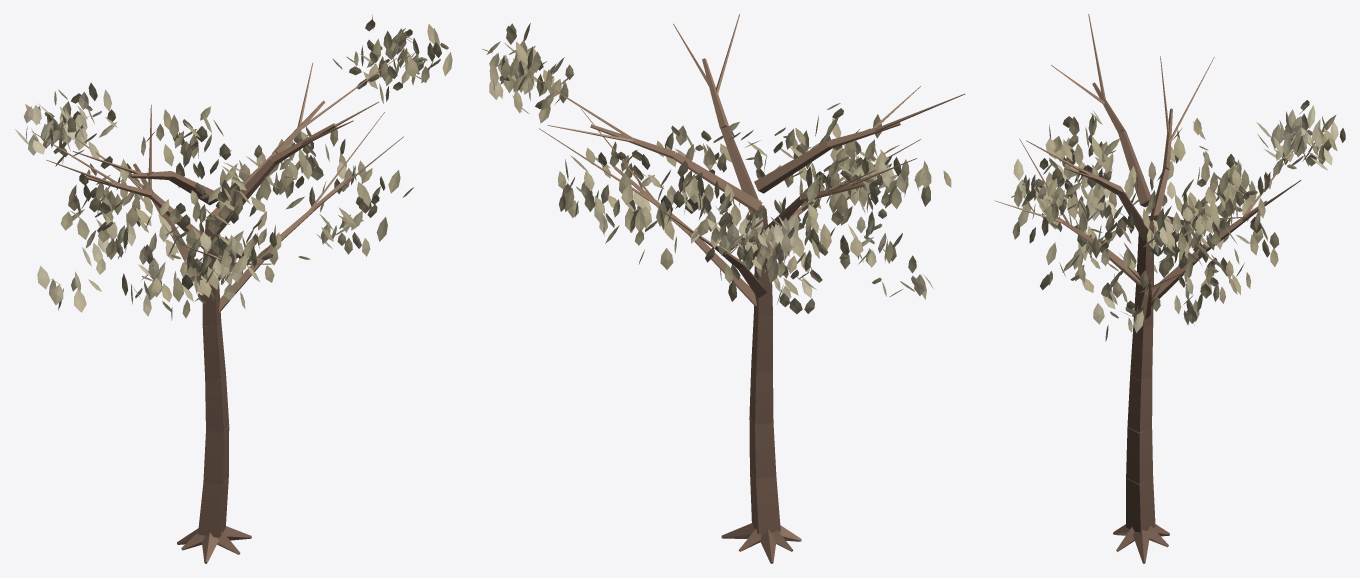
Rendered from tree_3d_03_golden_beige.glb.
3 views of the same model, side by side, from view 1: azimuth 30°, elevation 25°; view 2: azimuth 150°, elevation 25°; view 3: azimuth 270°, elevation 25° (orthographic). The views are drawn at different scales.
Visible parts, largest first — view 1: tree_3d_03_golden_beige_foliage, tree_3d_03_golden_beige_wood; view 2: tree_3d_03_golden_beige_foliage, tree_3d_03_golden_beige_wood; view 3: tree_3d_03_golden_beige_foliage, tree_3d_03_golden_beige_wood.
Boxes of the visible parts, <box> form: tree_3d_03_golden_beige_foliage: <box>15,15,452,320</box>; tree_3d_03_golden_beige_wood: <box>31,58,403,563</box>; tree_3d_03_golden_beige_foliage: <box>482,23,951,313</box>; tree_3d_03_golden_beige_wood: <box>526,14,965,563</box>; tree_3d_03_golden_beige_foliage: <box>1011,100,1345,341</box>; tree_3d_03_golden_beige_wood: <box>994,14,1301,563</box>.
Bounding box in the file's own units: 10 × 10.5 × 7.4.
